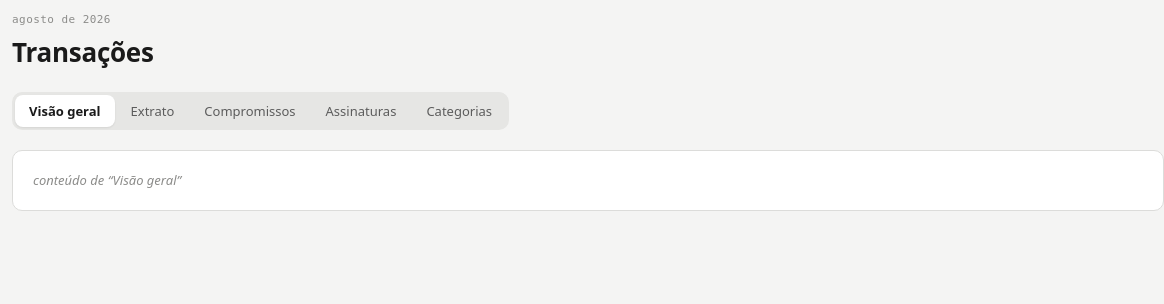
Test: TelaTransacoes › lista as transações reais do servidor ao selecionar o segmento Extrato
Click the tab "Extrato".
click(152, 110)  # box [116,94,188,126]
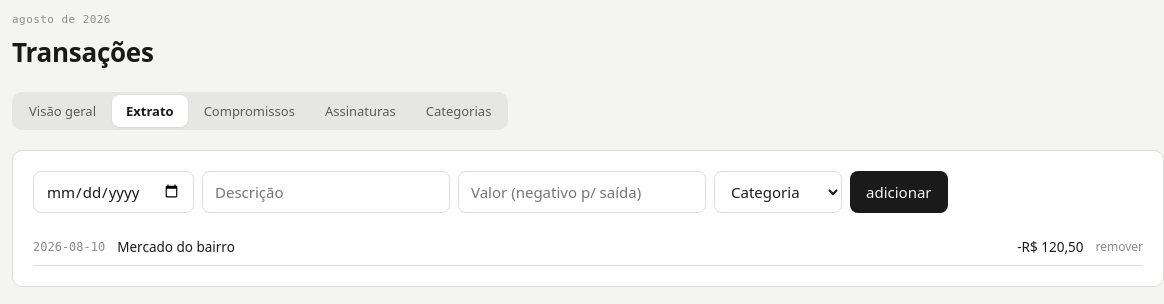
Now the text "Mercado do bairro" is shown, box [117,238,235,256]
Now the button with aria-label "Remover Mercado do bairro" is shown, box [1096,238,1143,256]
